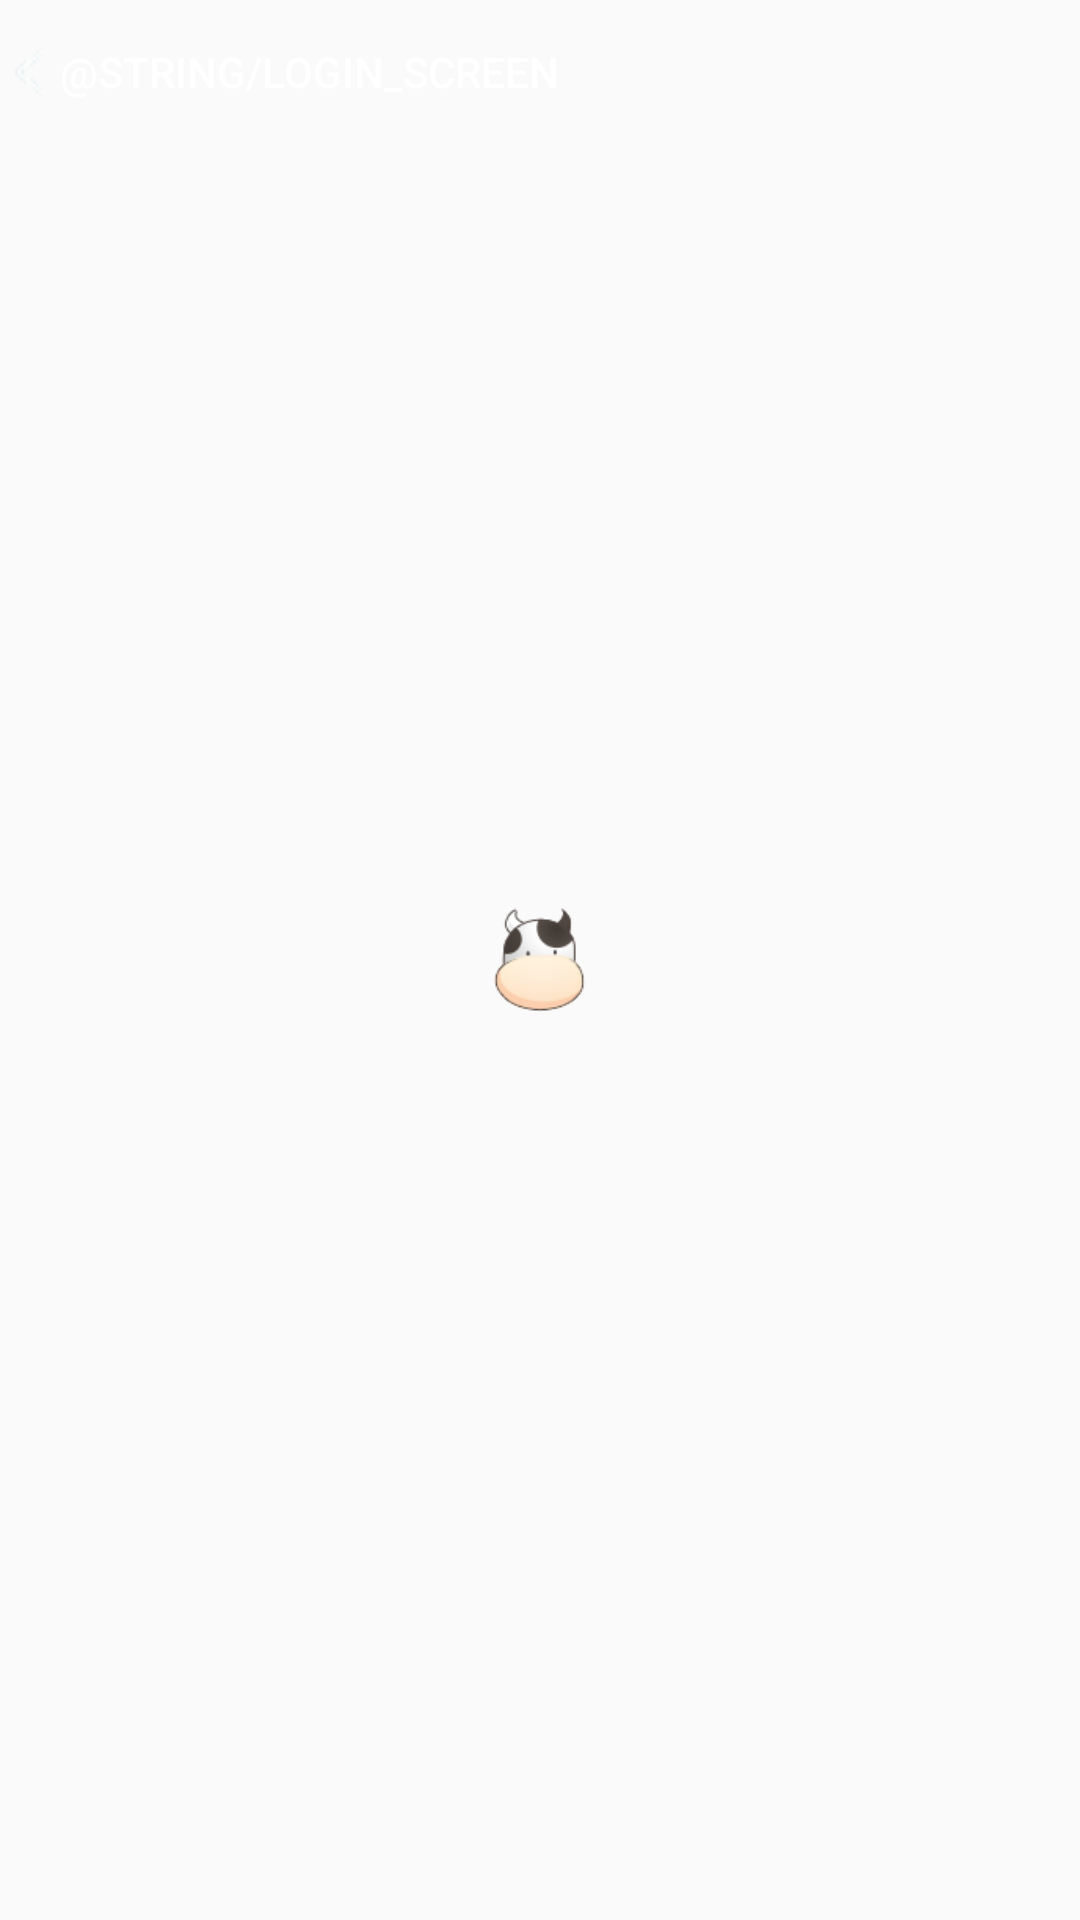

Icons on this 1080px x 1920px Android screen, each with the point to tap as point (x, y):
cowhead: point (539, 959)
